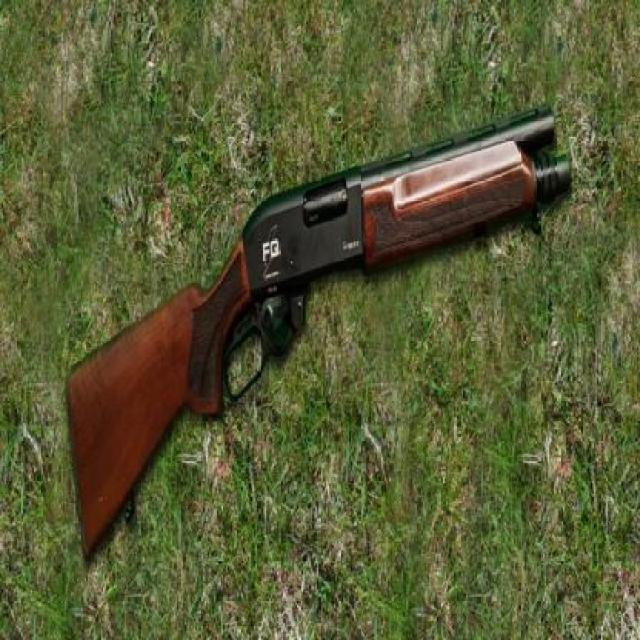weapon: (63, 103, 572, 560)
